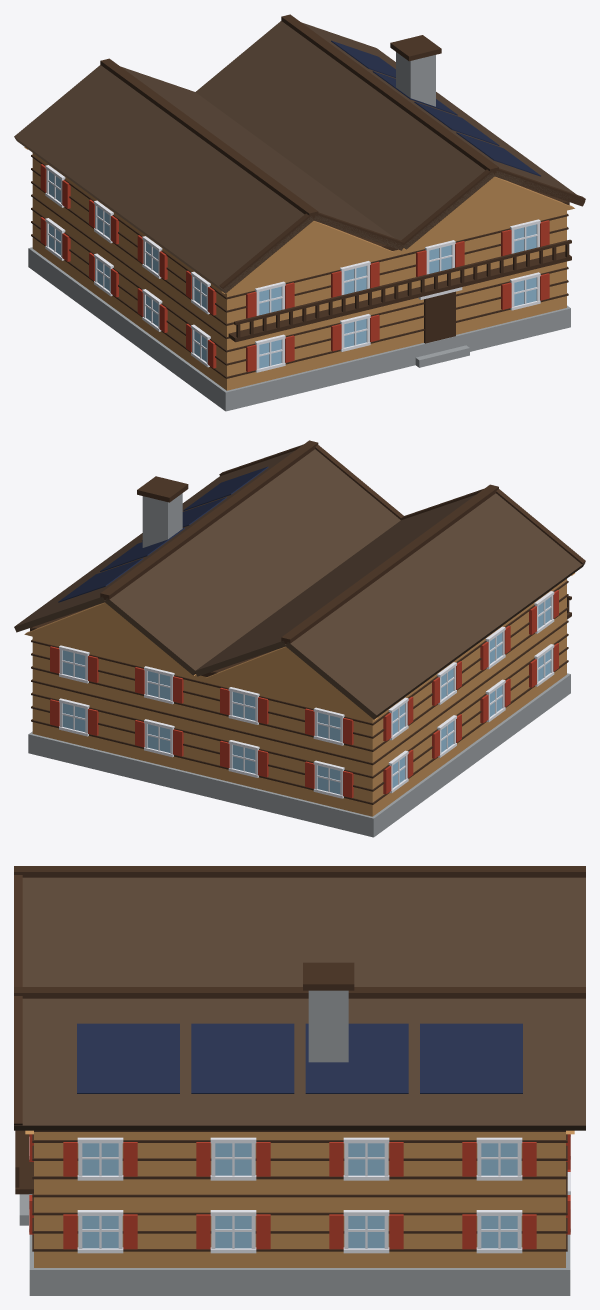
File: house-2x2-2f-chalet-a-solar.glb
The picture shows the model from 3 angles, top to bottom: view 1: azimuth 30°, elevation 25°; view 2: azimuth 150°, elevation 25°; view 3: azimuth 270°, elevation 25°; orthographic projection. The views are drawn at different scales.
Parts seen in each view (by area): view 1: house-2x2-2f-chalet-a-solar; view 2: house-2x2-2f-chalet-a-solar; view 3: house-2x2-2f-chalet-a-solar.
Part boxes in pixels (box(x1,y1,x2,y2)): house-2x2-2f-chalet-a-solar: box(14, 14, 585, 411); house-2x2-2f-chalet-a-solar: box(14, 440, 585, 837); house-2x2-2f-chalet-a-solar: box(14, 866, 585, 1295).
Bounding box in the file's own units: 2.01 × 1.12 × 2.
1 material, 1 textured.
